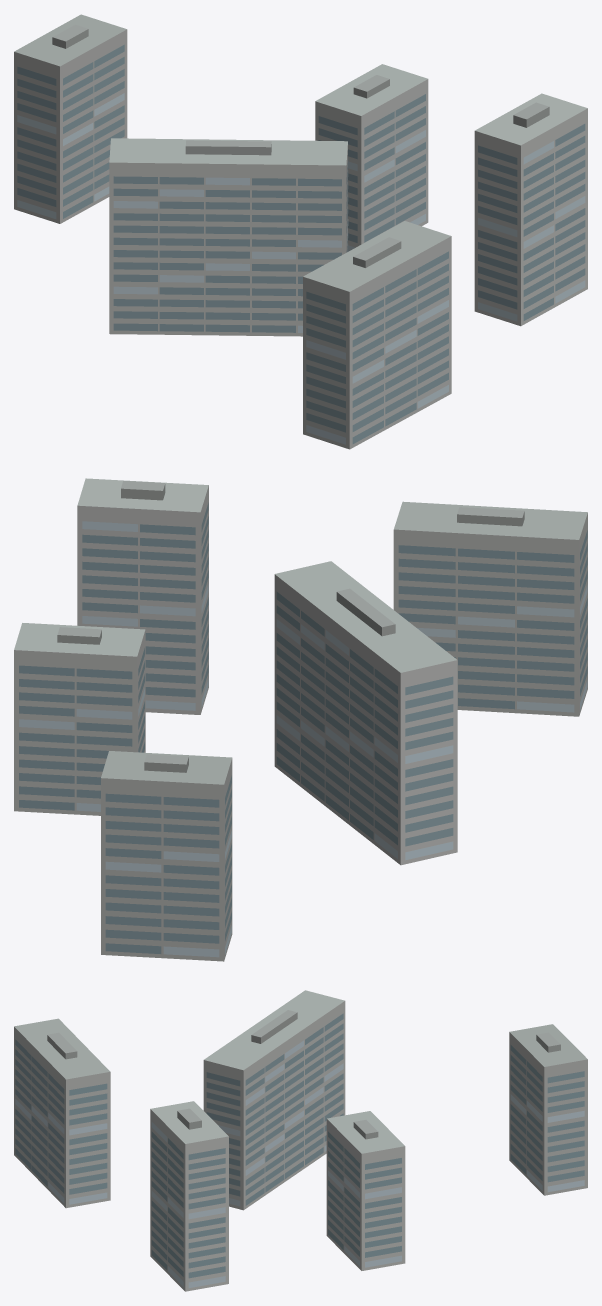
File: apt-a15886507.glb
3 views of the same model, one above another, from view 1: azimuth 30°, elevation 25°; view 2: azimuth 150°, elevation 25°; view 3: azimuth 270°, elevation 25° (orthographic). The views are drawn at different scales.
Parts seen in each view (by area): view 1: apt-a15886507; view 2: apt-a15886507; view 3: apt-a15886507.
Part boxes in pixels (left/top/right/bottom): apt-a15886507: left=14, top=14, right=587, bottom=449; apt-a15886507: left=14, top=478, right=587, bottom=961; apt-a15886507: left=14, top=990, right=587, bottom=1291.
Size of the model in its own units: 87.34 by 39 by 131.
